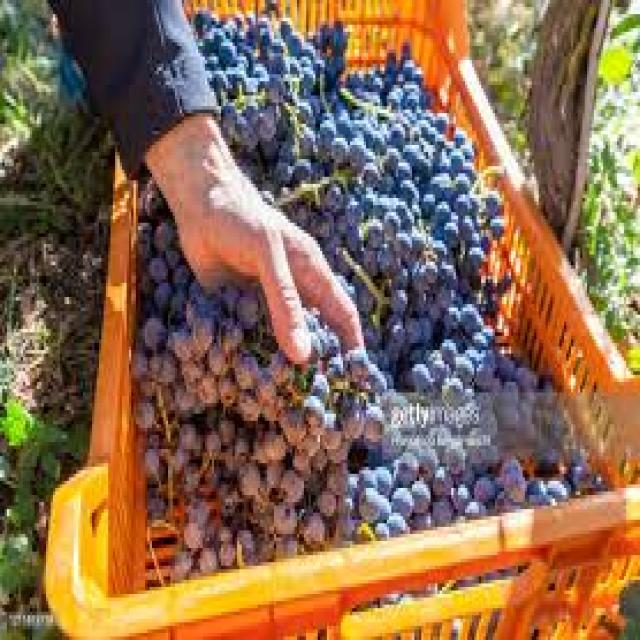basket: (80, 155, 151, 597)
